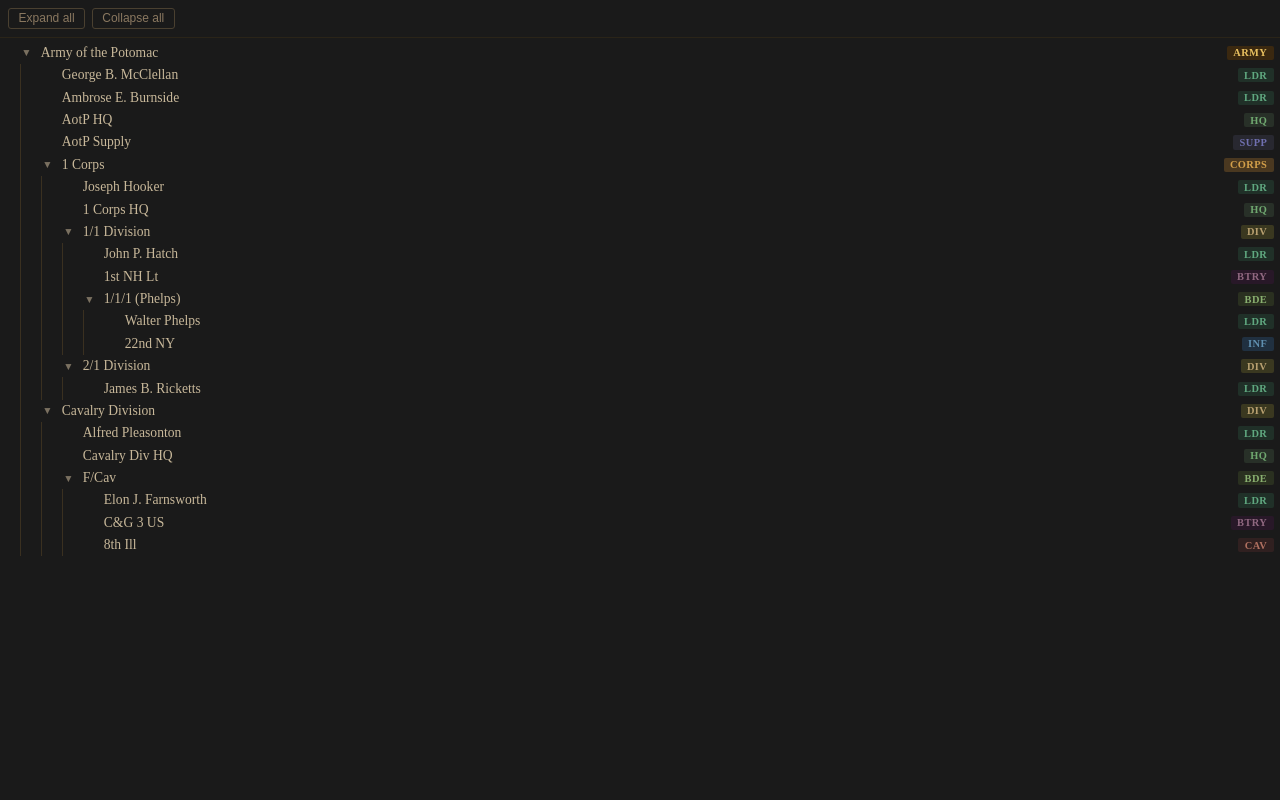
Test: OobTreeNode via OobHierarchyTree › collapses children when toggle button is clicked on army node
Click the button with class "expand-btn" next to "Army of the Potomac": (26, 53) [18,48,34,58]
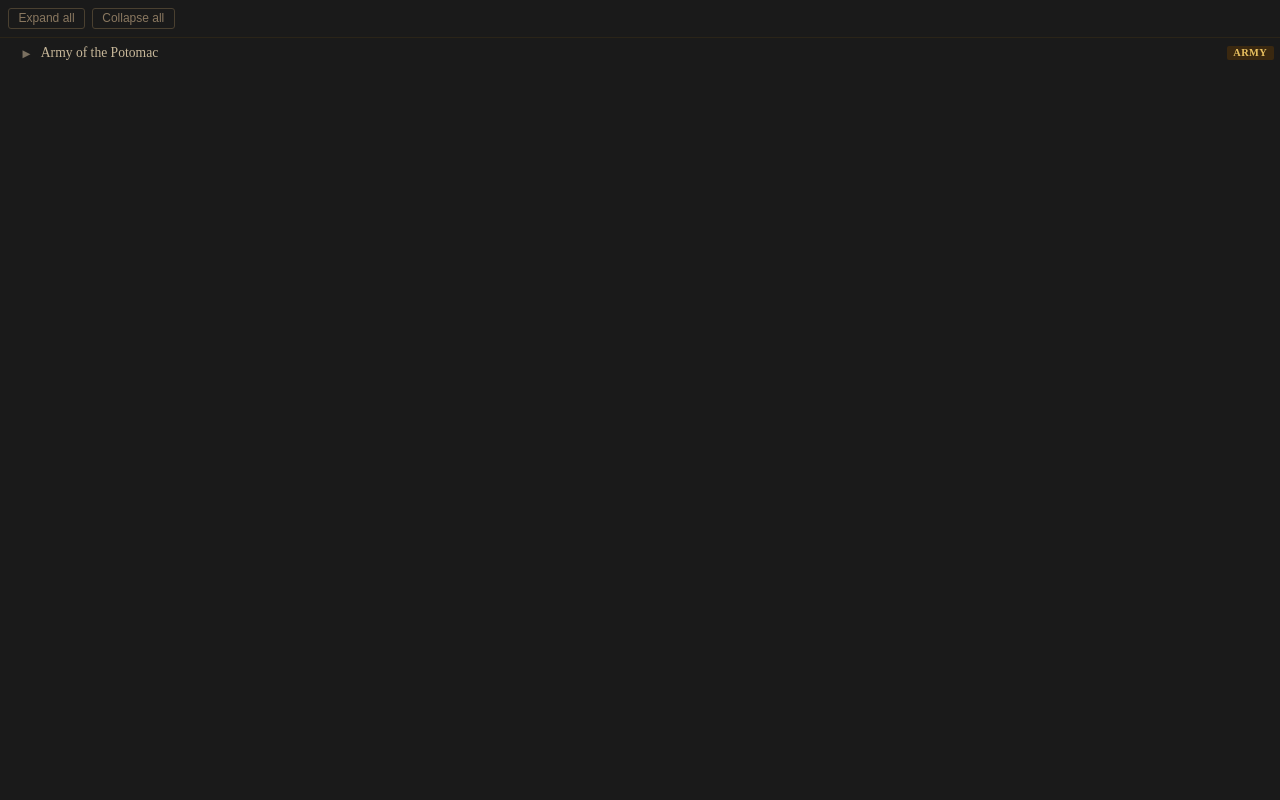
Expected: the text "1 Corps" is gone
